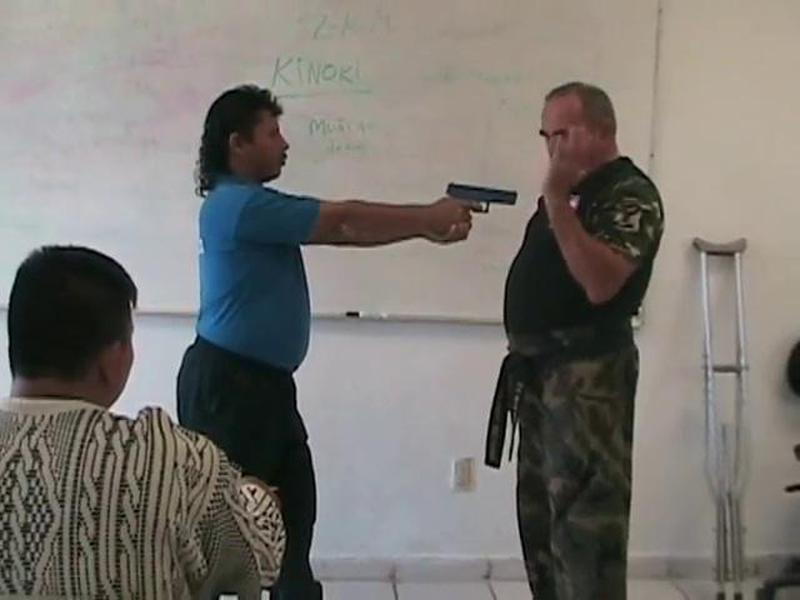Pistola: (439, 176, 527, 223)
